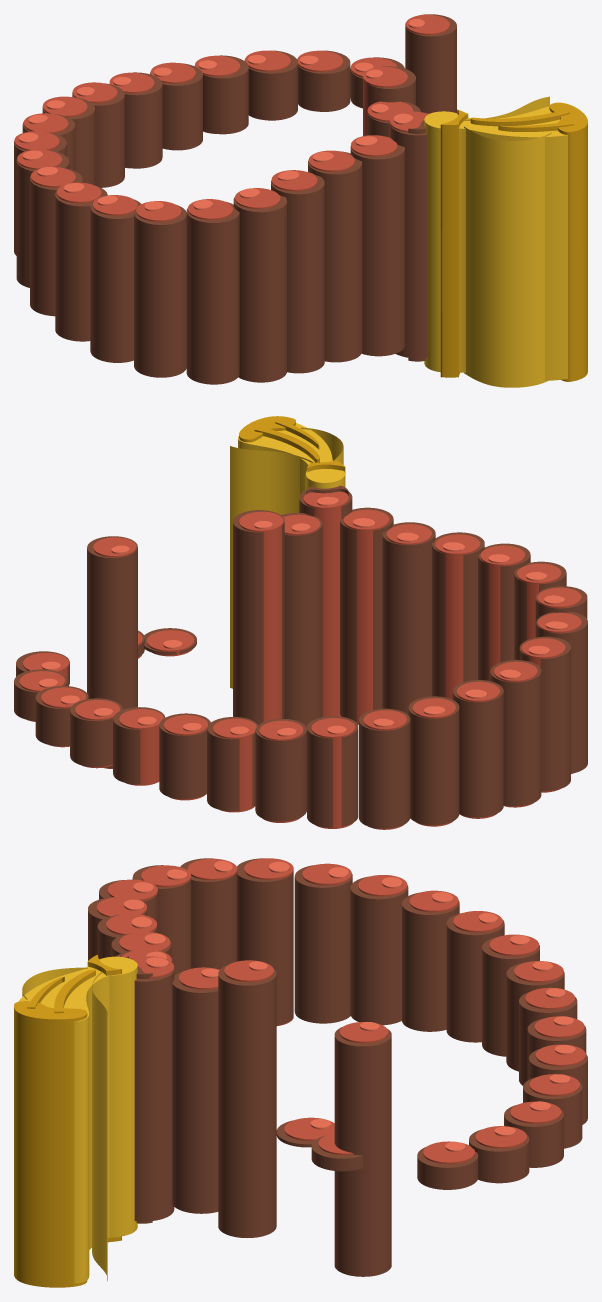
Rendered from emoji_u1f4ff.glb.
3 views of the same model, one above another, from view 1: azimuth 30°, elevation 25°; view 2: azimuth 150°, elevation 25°; view 3: azimuth 270°, elevation 25° (orthographic). The views are drawn at different scales.
Visible parts, largest first — view 1: emoji_u1f4ff; view 2: emoji_u1f4ff; view 3: emoji_u1f4ff.
Boxes of the visible parts, x1,y1,x2,y2 form: emoji_u1f4ff: (14,14,587,387); emoji_u1f4ff: (14,416,587,829); emoji_u1f4ff: (14,858,587,1287).
Size of the model in its own units: 0.0337 by 0.0172 by 0.033.
